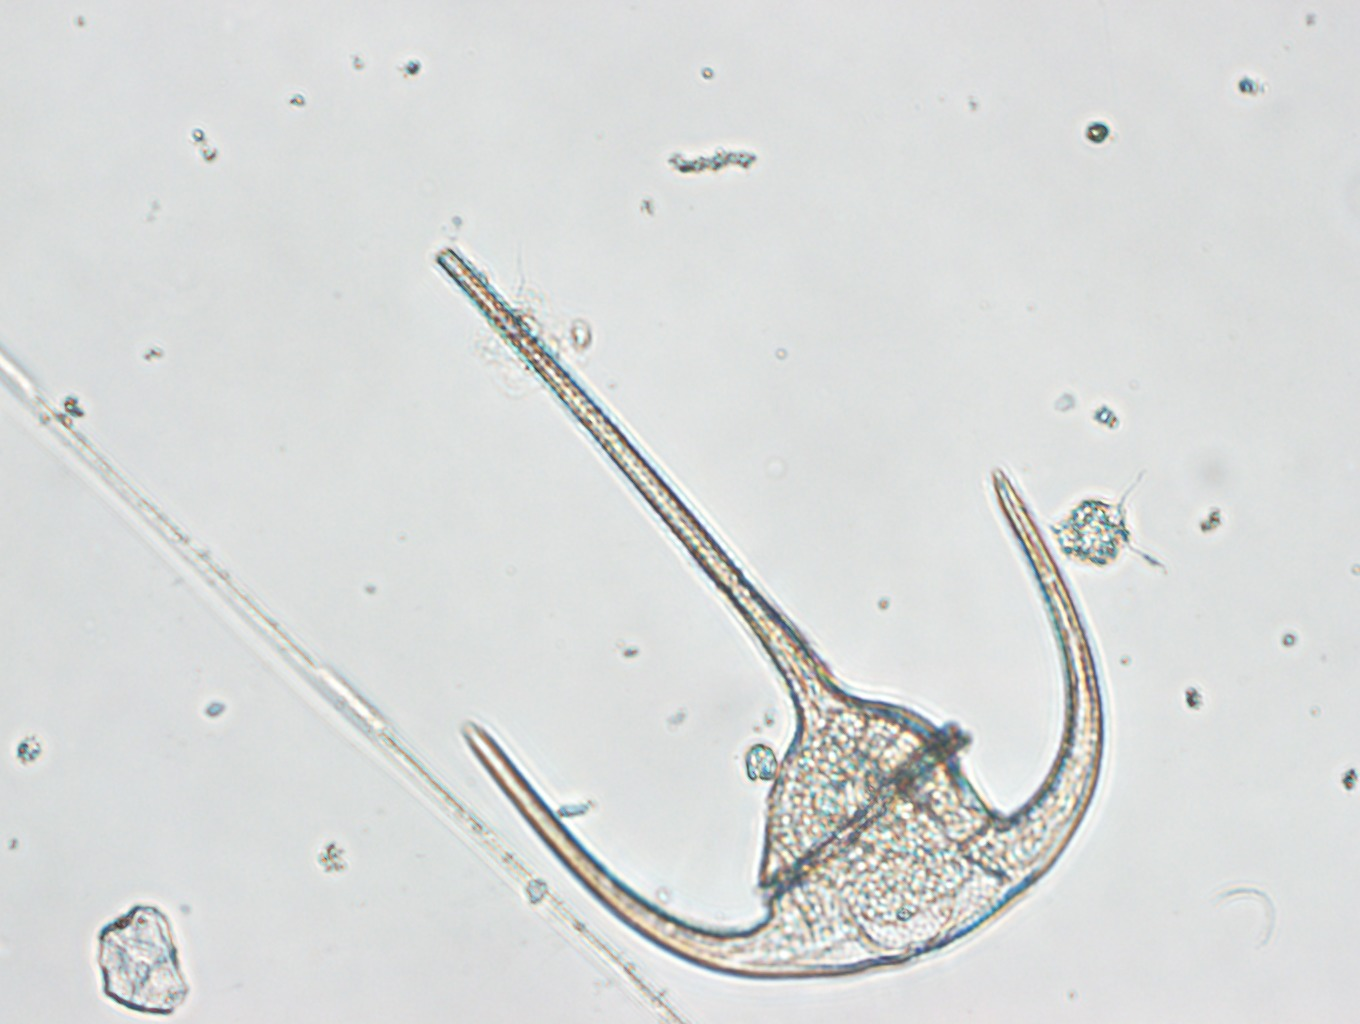ceratium tripos: (435, 243, 1112, 984)
